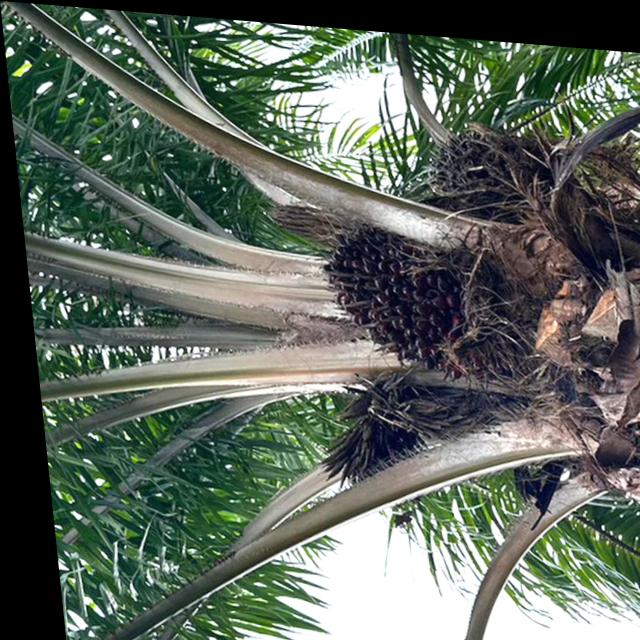almost: (311, 212, 492, 373)
